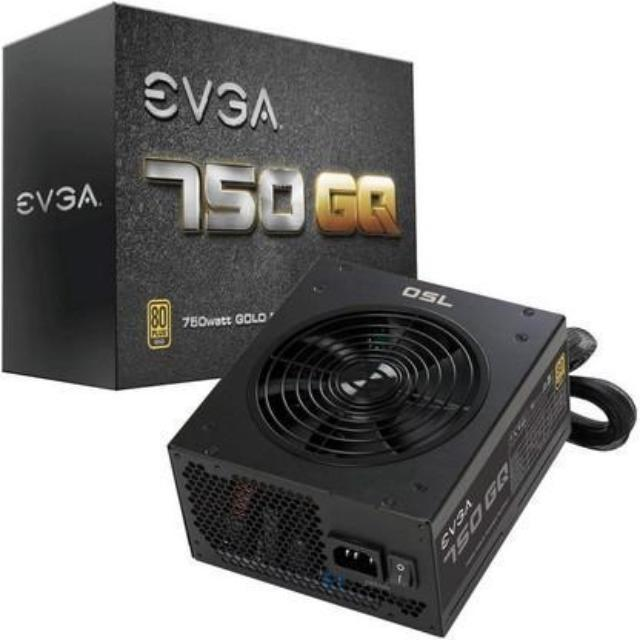PSU: (142, 251, 626, 640)
